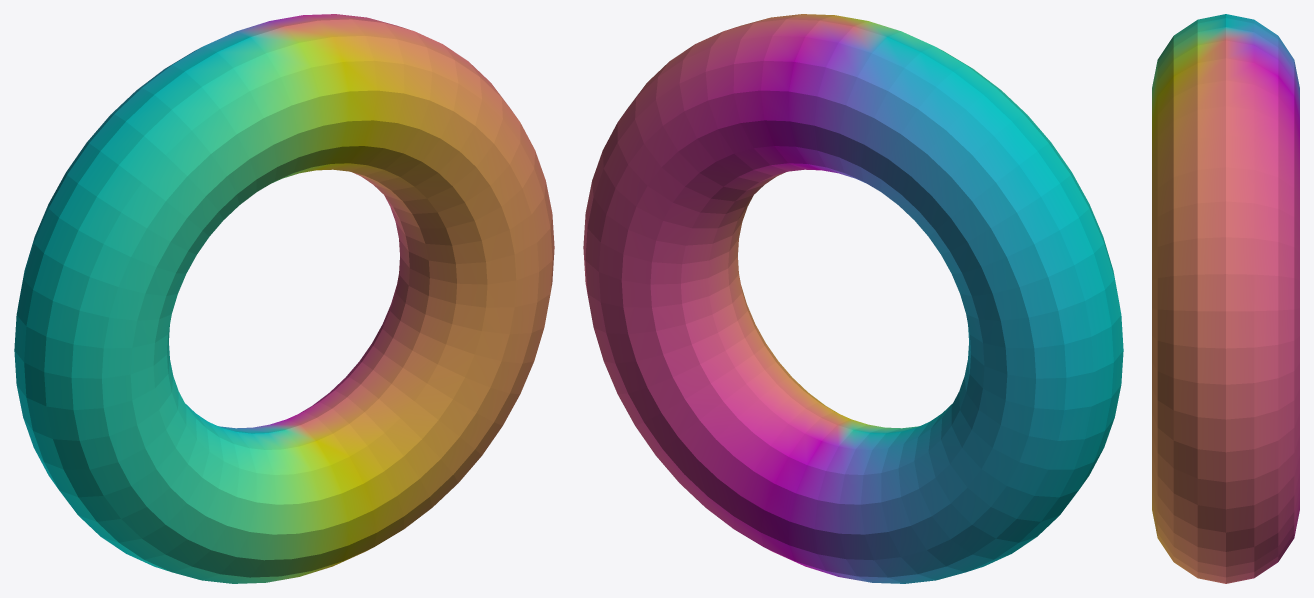
The model's file is vertex_colors.glb.
The picture shows the model from 3 angles, left to right: view 1: azimuth 30°, elevation 25°; view 2: azimuth 150°, elevation 25°; view 3: azimuth 270°, elevation 25°; orthographic projection. The views are drawn at different scales.
Parts seen in each view (by area): view 1: geometry_0; view 2: geometry_0; view 3: geometry_0.
Part boxes in pixels (x1,y1,x2,y2): geometry_0: [14, 14, 554, 583]; geometry_0: [583, 14, 1123, 583]; geometry_0: [1152, 14, 1299, 583].
Bounding box in the file's own units: 2.7 × 2.7 × 0.7.
